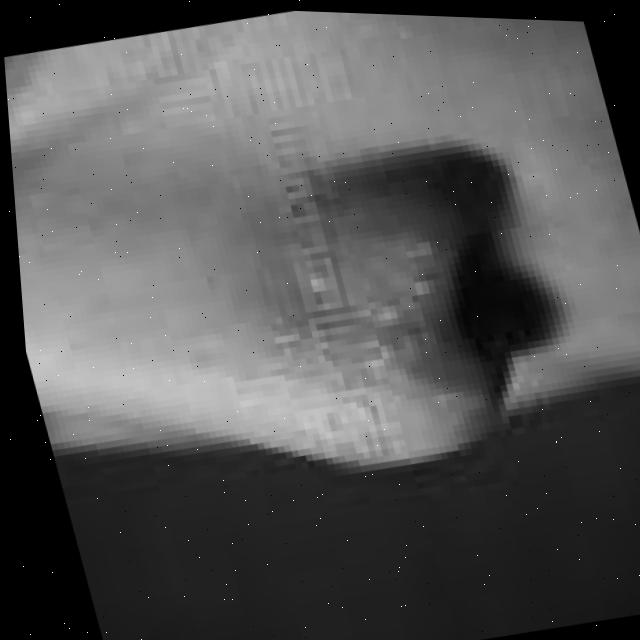Melasma: (260, 176, 475, 430)
